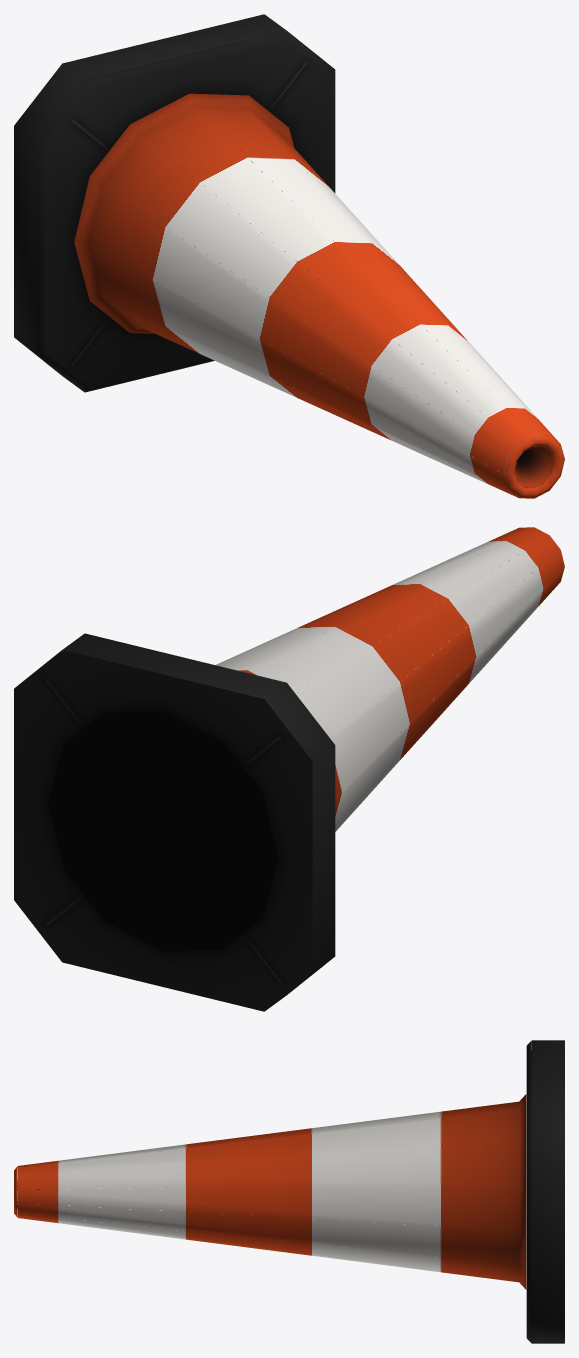
The model's file is construction_cone10d010d010d0.obj.
3 views of the same model, one above another, from view 1: azimuth 30°, elevation 25°; view 2: azimuth 150°, elevation 25°; view 3: azimuth 270°, elevation 25° (orthographic). The views are drawn at different scales.
Parts seen in each view (by area): view 1: construction_cone10d010d010d0; view 2: construction_cone10d010d010d0; view 3: construction_cone10d010d010d0.
Part boxes in pixels (x1=…): construction_cone10d010d010d0: x1=14, y1=14, x2=564, y2=498; construction_cone10d010d010d0: x1=14, y1=527, x2=564, y2=1011; construction_cone10d010d010d0: x1=14, y1=1040, x2=564, y2=1343.
Bounding box in the file's own units: 0.5029 × 0.5029 × 1.09.
1 material, 1 textured.
